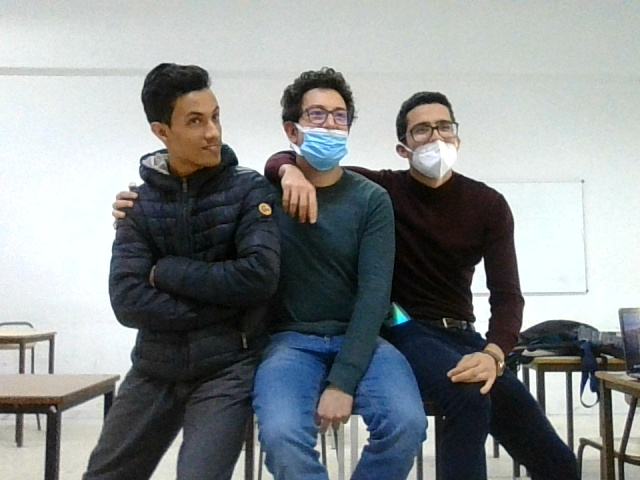mask_weared_incorrect: (269, 70, 357, 171), (391, 96, 470, 180)
without_mask: (130, 58, 241, 168)
